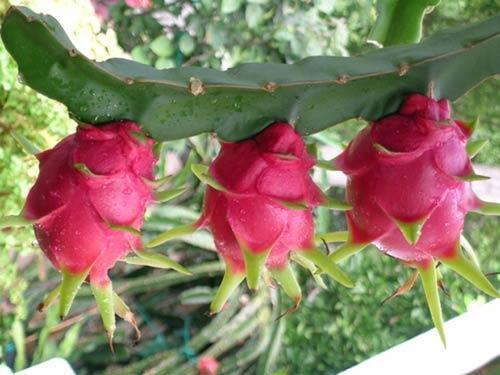dragon-fruit: (343, 91, 474, 263), (31, 119, 157, 284), (201, 119, 316, 271)
